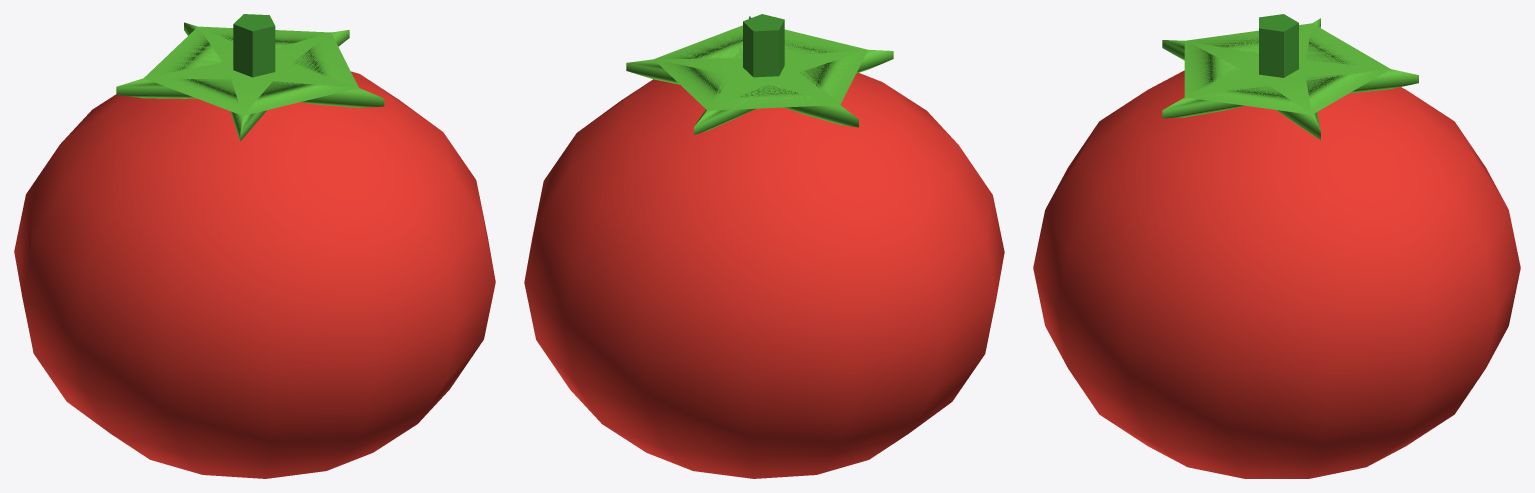
The model's file is Tomato.fbx.
The picture shows the model from 3 angles, left to right: view 1: azimuth 30°, elevation 25°; view 2: azimuth 150°, elevation 25°; view 3: azimuth 270°, elevation 25°; orthographic projection.
Parts seen in each view (by area): view 1: Tomato; view 2: Tomato; view 3: Tomato.
Boxes of the visible parts, bbox=[...] form: Tomato: bbox=[14, 14, 495, 478]; Tomato: bbox=[524, 14, 1004, 478]; Tomato: bbox=[1033, 14, 1520, 478].
Size of the model in its own units: 1.07 by 1.08 by 1.1.
1 material, 1 textured.
